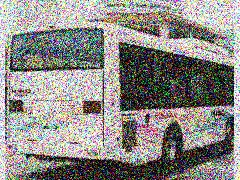bus: (6, 23, 234, 174)
